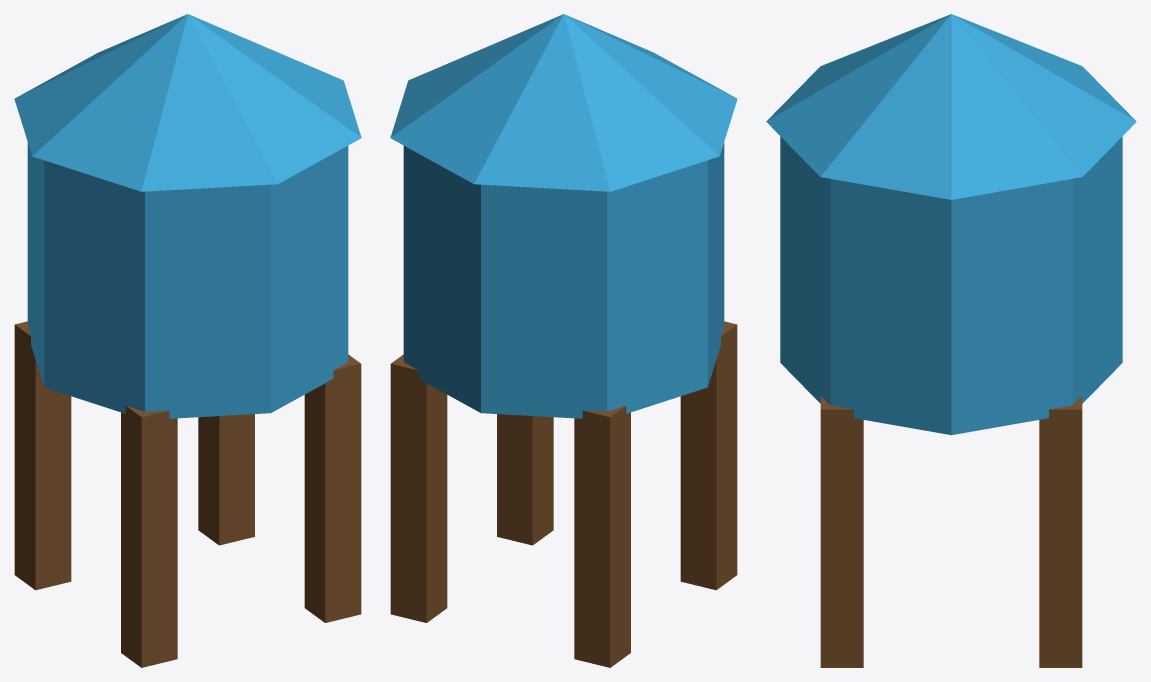
Rendered from DepositoAgua.fbx.
3 views of the same model, side by side, from view 1: azimuth 30°, elevation 25°; view 2: azimuth 150°, elevation 25°; view 3: azimuth 270°, elevation 25° (orthographic). The views are drawn at different scales.
Parts seen in each view (by area): view 1: Deposito, Cubierta, Soporte_-0.23_-0.23, Soporte_0.23_-0.23, Soporte_-0.23_0.23, Soporte_0.23_0.23; view 2: Deposito, Cubierta, Soporte_-0.23_0.23, Soporte_0.23_0.23, Soporte_-0.23_-0.23, Soporte_0.23_-0.23; view 3: Deposito, Cubierta, Soporte_0.23_-0.23, Soporte_0.23_0.23.
Boxes of the visible parts, x1,y1,x2,y2 form: Deposito: [27, 142, 348, 418]; Cubierta: [14, 14, 361, 191]; Soporte_-0.23_-0.23: [121, 406, 177, 667]; Soporte_0.23_-0.23: [304, 354, 361, 622]; Soporte_-0.23_0.23: [14, 321, 71, 590]; Soporte_0.23_0.23: [198, 414, 254, 545]; Deposito: [403, 142, 724, 418]; Cubierta: [390, 14, 737, 191]; Soporte_-0.23_0.23: [574, 406, 630, 667]; Soporte_0.23_0.23: [390, 354, 447, 622]; Soporte_-0.23_-0.23: [680, 321, 737, 590]; Soporte_0.23_-0.23: [497, 414, 553, 545]; Deposito: [780, 136, 1122, 435]; Cubierta: [766, 14, 1136, 199]; Soporte_0.23_-0.23: [820, 396, 863, 667]; Soporte_0.23_0.23: [1039, 396, 1082, 667].
Bounding box in the file's own units: 0.78 × 1.39 × 0.78.
